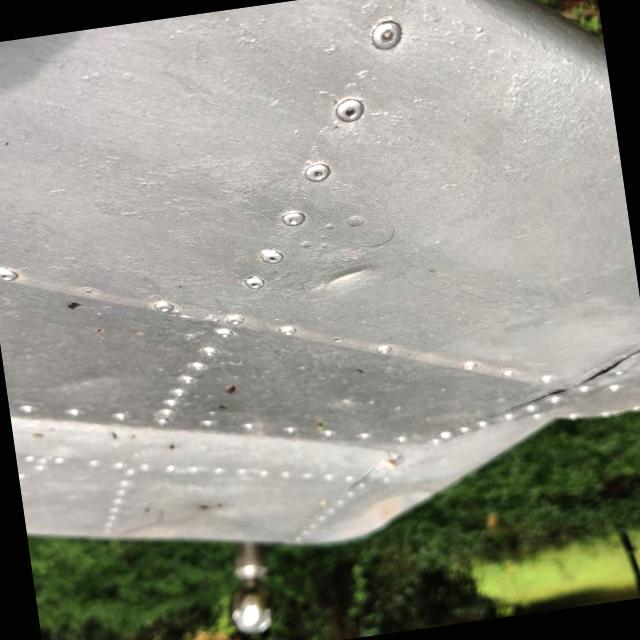dent: (294, 226, 401, 324)
